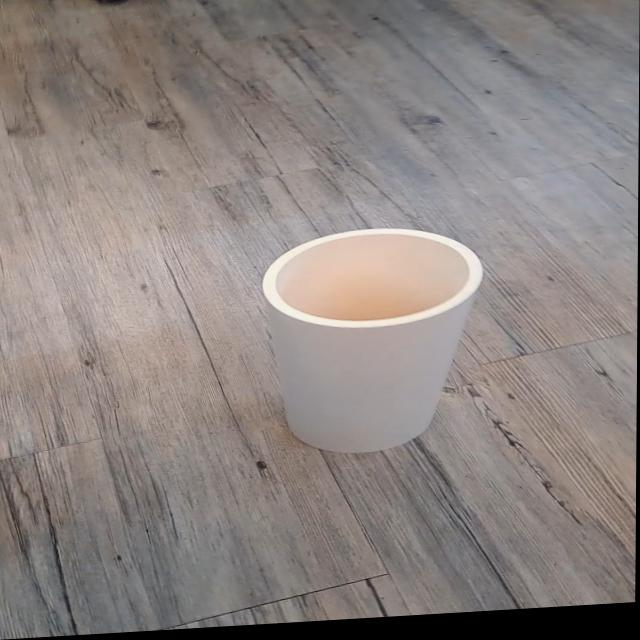CORAL: (225, 190, 519, 498)
